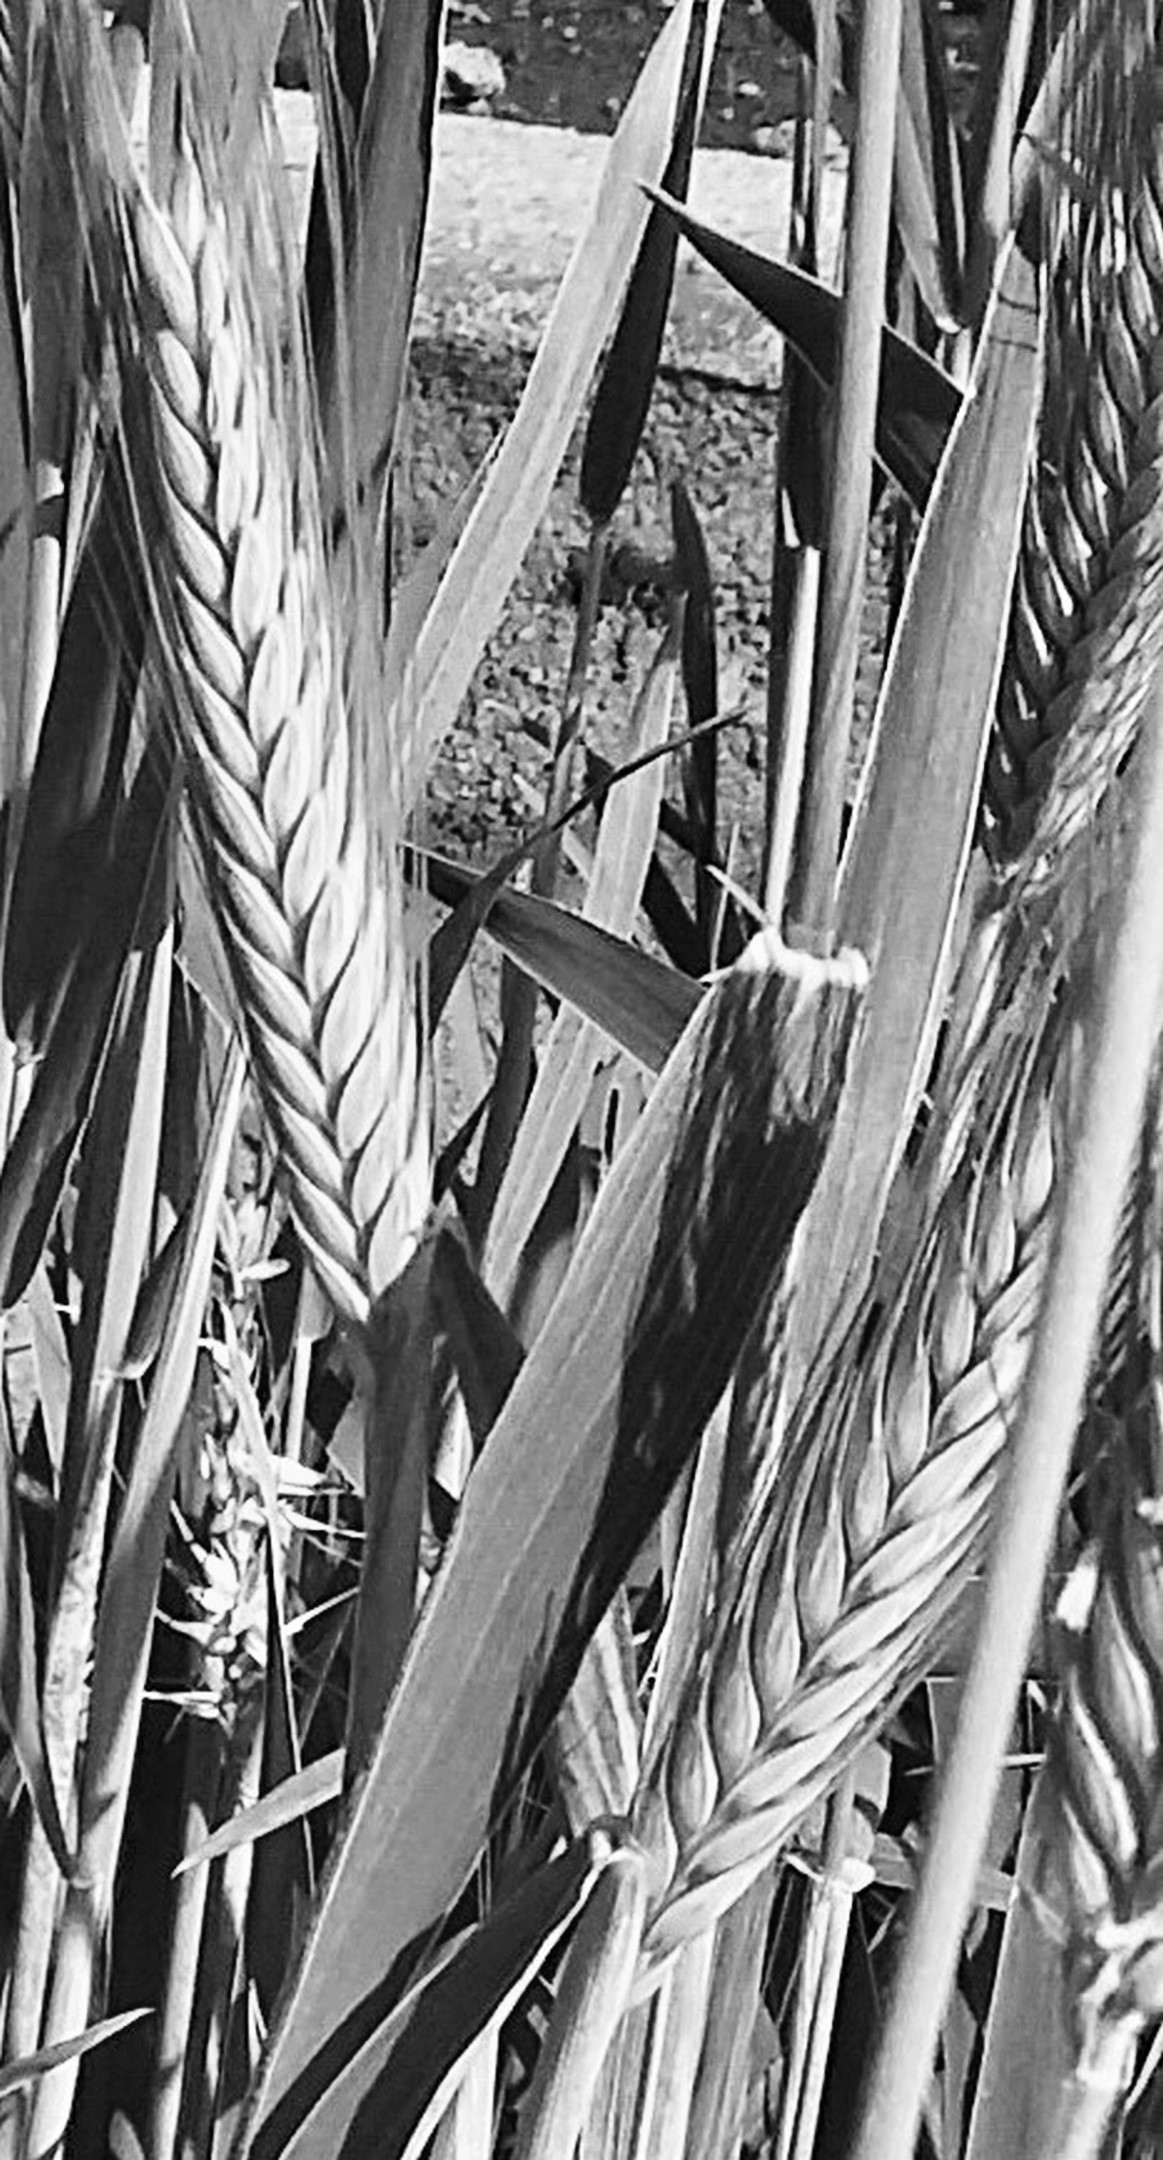Healthy Wheat: (636, 1086, 1163, 1931), (103, 195, 477, 1308)
